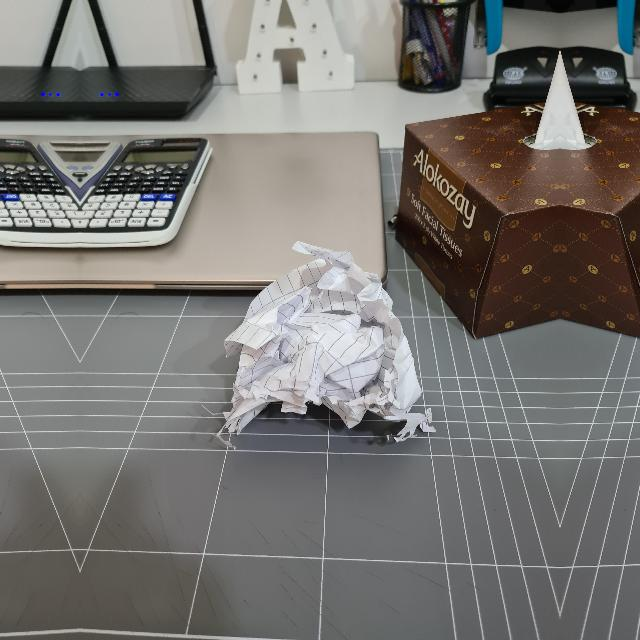paper: (212, 242, 433, 444)
